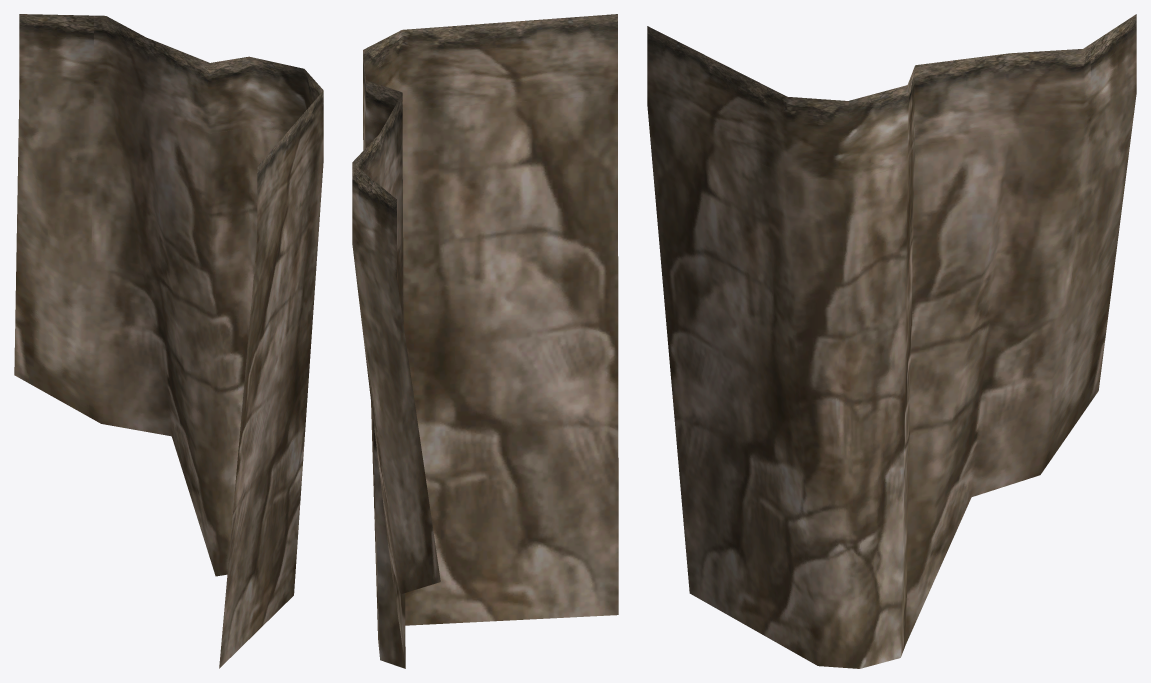
Rendered from OVERHILL_A_01_LINE58.fbx.
The picture shows the model from 3 angles, left to right: view 1: azimuth 30°, elevation 25°; view 2: azimuth 150°, elevation 25°; view 3: azimuth 270°, elevation 25°; orthographic projection. The views are drawn at different scales.
Visible parts, largest first — view 1: OVERHILL_A_01_LINE58; view 2: OVERHILL_A_01_LINE58; view 3: OVERHILL_A_01_LINE58.
Boxes of the visible parts, x1,y1,x2,y2 form: OVERHILL_A_01_LINE58: (14,14,323,668); OVERHILL_A_01_LINE58: (352,14,618,668); OVERHILL_A_01_LINE58: (647,14,1136,668).
Size of the model in its own units: 13974 by 38038 by 29160.
Materials: 2 (2 with a texture image).
